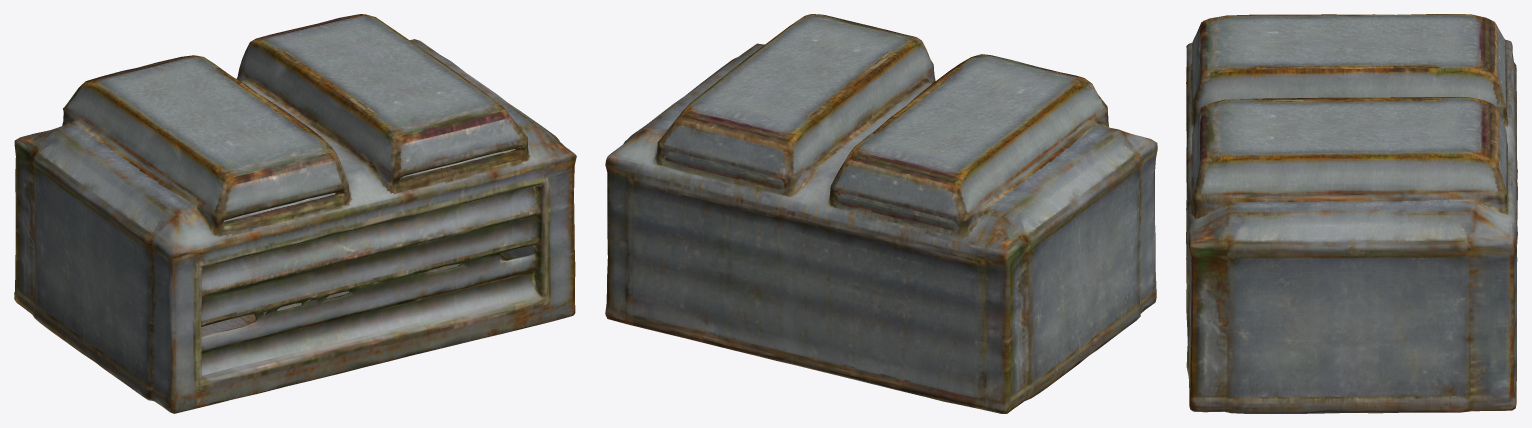
File: shelter_roof_air_handler_threeview_candidate.glb
3 views of the same model, side by side, from view 1: azimuth 30°, elevation 25°; view 2: azimuth 150°, elevation 25°; view 3: azimuth 270°, elevation 25° (orthographic). The views are drawn at different scales.
Parts seen in each view (by area): view 1: shelter_roof_air_handler_threeview_candidate; view 2: shelter_roof_air_handler_threeview_candidate; view 3: shelter_roof_air_handler_threeview_candidate.
Boxes of the visible parts, x1,y1,x2,y2 form: shelter_roof_air_handler_threeview_candidate: (14,14,576,413); shelter_roof_air_handler_threeview_candidate: (605,14,1157,413); shelter_roof_air_handler_threeview_candidate: (1186,14,1517,413).
Size of the model in its own units: 3.95 by 2 by 2.64.
Materials: 1 (1 with a texture image).
